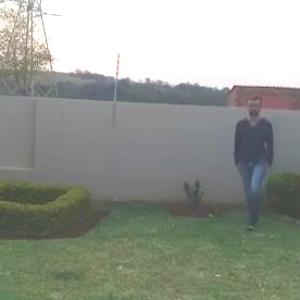follow: (222, 98, 274, 215)
